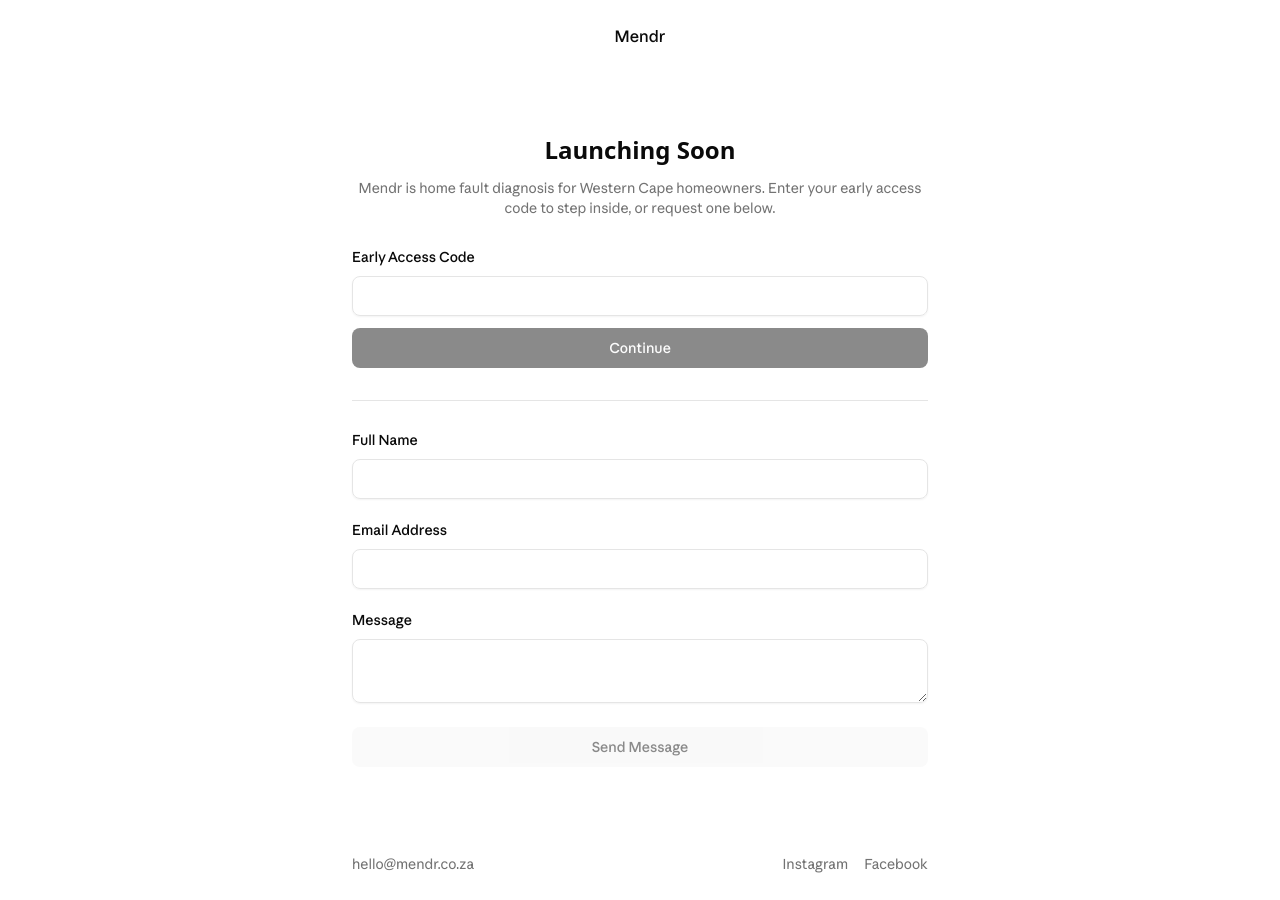
Test case: ComingSoonClient — contact form › renders the server error message when /api/contact returns an error
Type "Ada" into the field labelled "Full Name" at (640, 478), box left=352, top=458, right=928, bottom=498
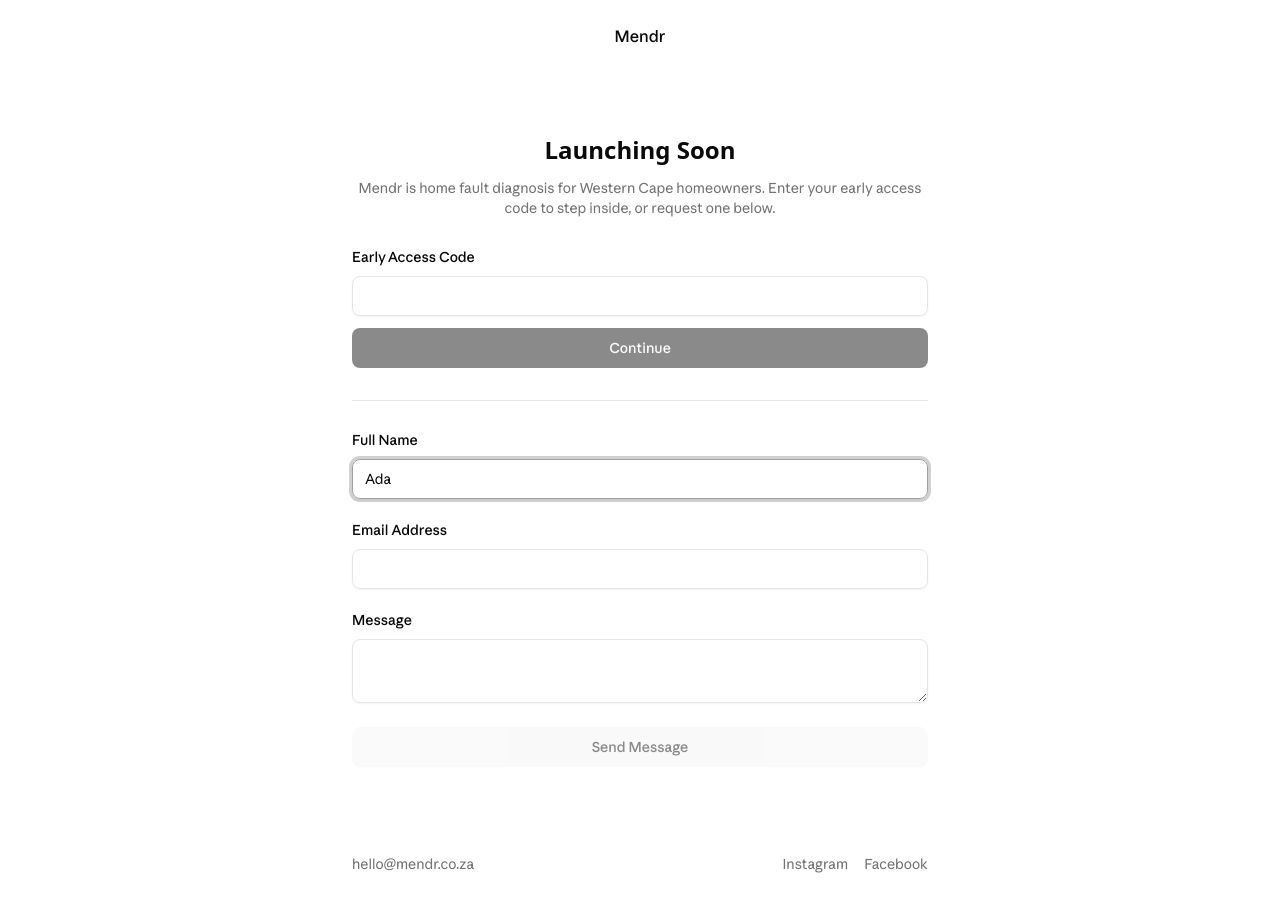
Type "ada@example.com" into the field labelled "Email Address" at (640, 568), box left=352, top=548, right=928, bottom=588
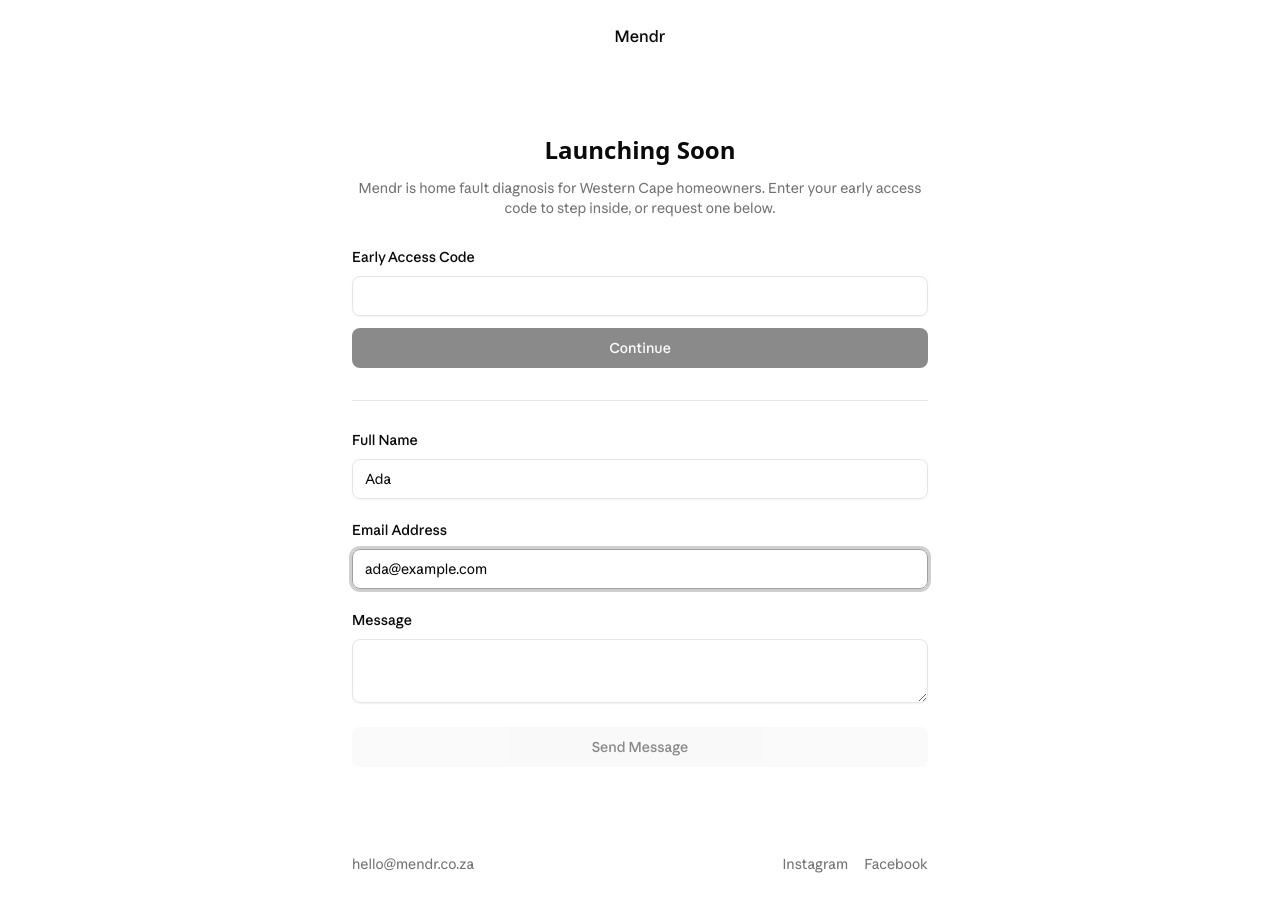
Type "Hi" into the text box labelled "Message" at (640, 670), box left=352, top=638, right=928, bottom=702
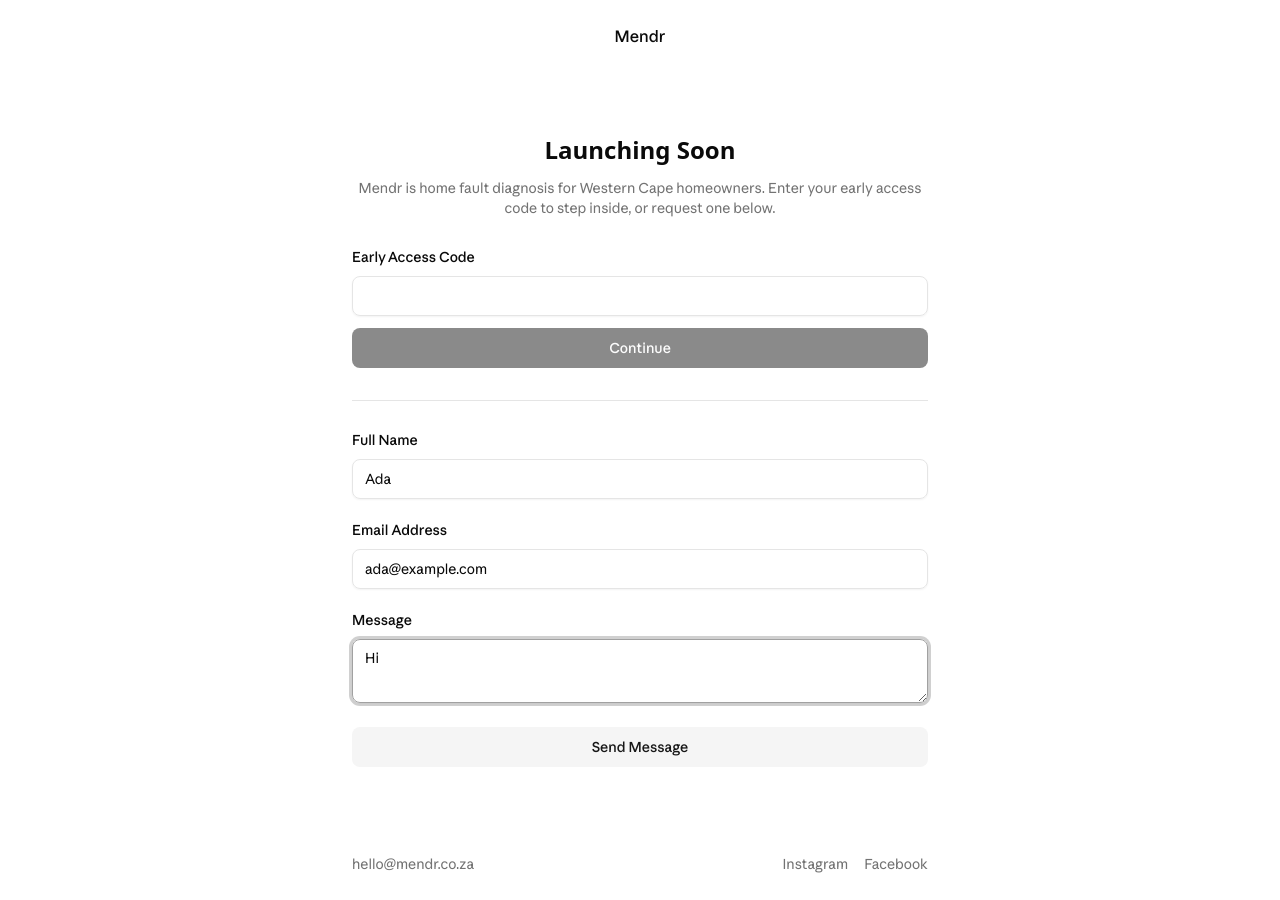
Click the button "Send Message" at (640, 746), box left=352, top=726, right=928, bottom=766
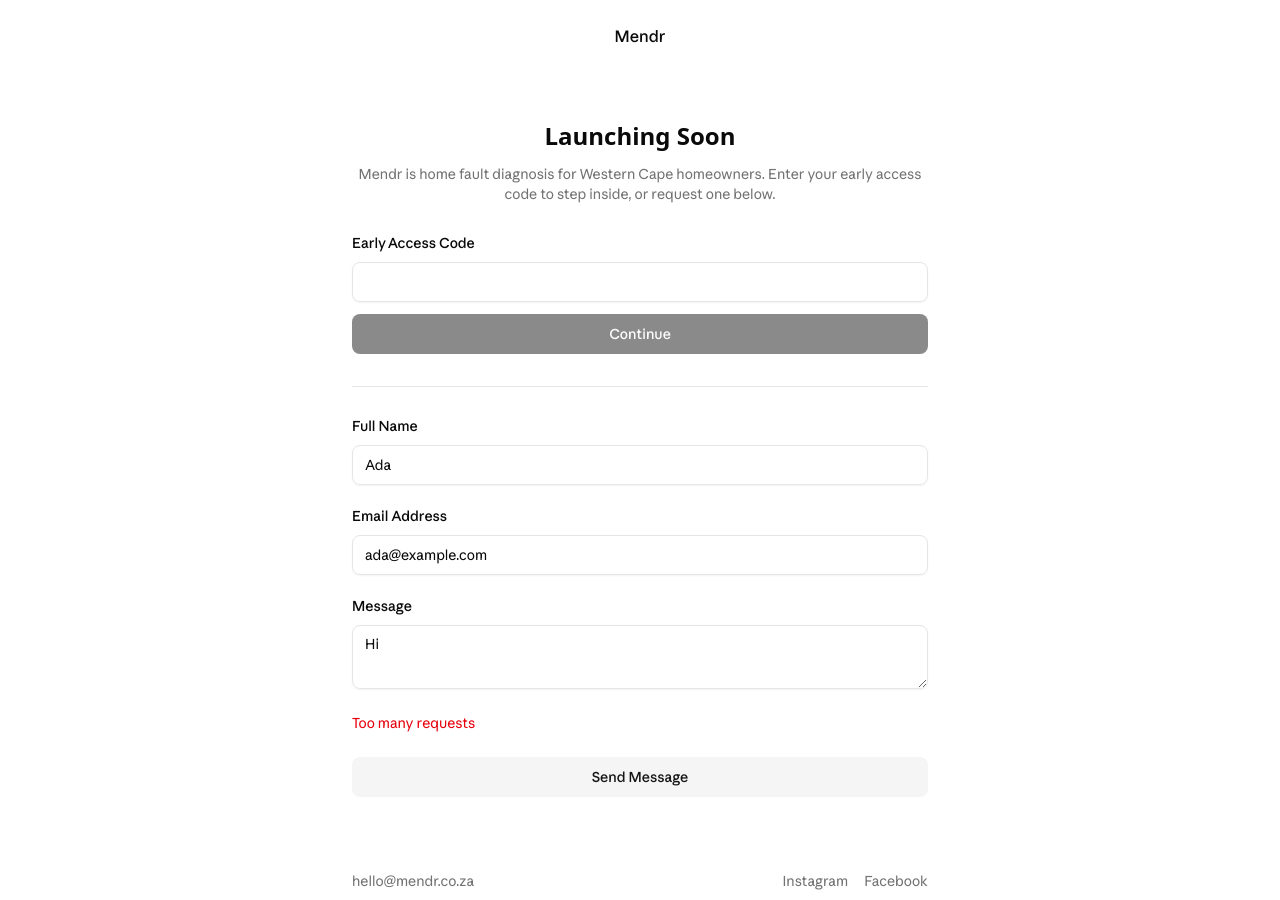
Expected: the button "Send Message" is shown, left=352, top=757, right=928, bottom=797
Now the text "Too many requests" is shown, box left=352, top=714, right=475, bottom=732
